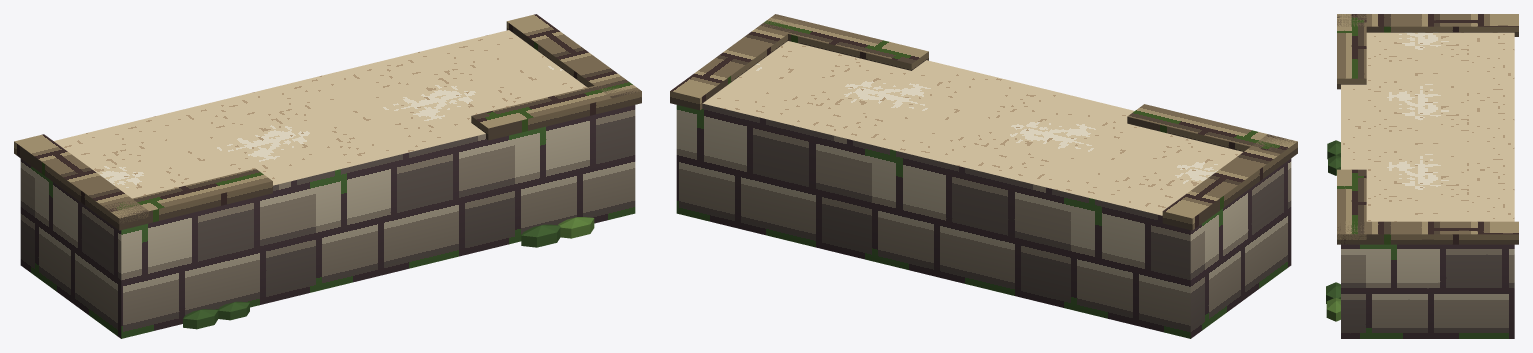
The model's file is scene_hall_ledge.glb.
3 views of the same model, side by side, from view 1: azimuth 30°, elevation 25°; view 2: azimuth 150°, elevation 25°; view 3: azimuth 270°, elevation 25° (orthographic). The views are drawn at different scales.
Visible parts, largest first — view 1: scene_hall_ledge; view 2: scene_hall_ledge; view 3: scene_hall_ledge.
Part boxes in pixels (x1=…): scene_hall_ledge: x1=14, y1=14, x2=641, y2=338; scene_hall_ledge: x1=670, y1=14, x2=1297, y2=338; scene_hall_ledge: x1=1326, y1=14, x2=1518, y2=338.
Size of the model in its own units: 6.3 by 1.5 by 2.33.
Materials: 3 (2 with a texture image).
